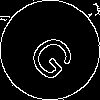G: (25, 25, 86, 85)
